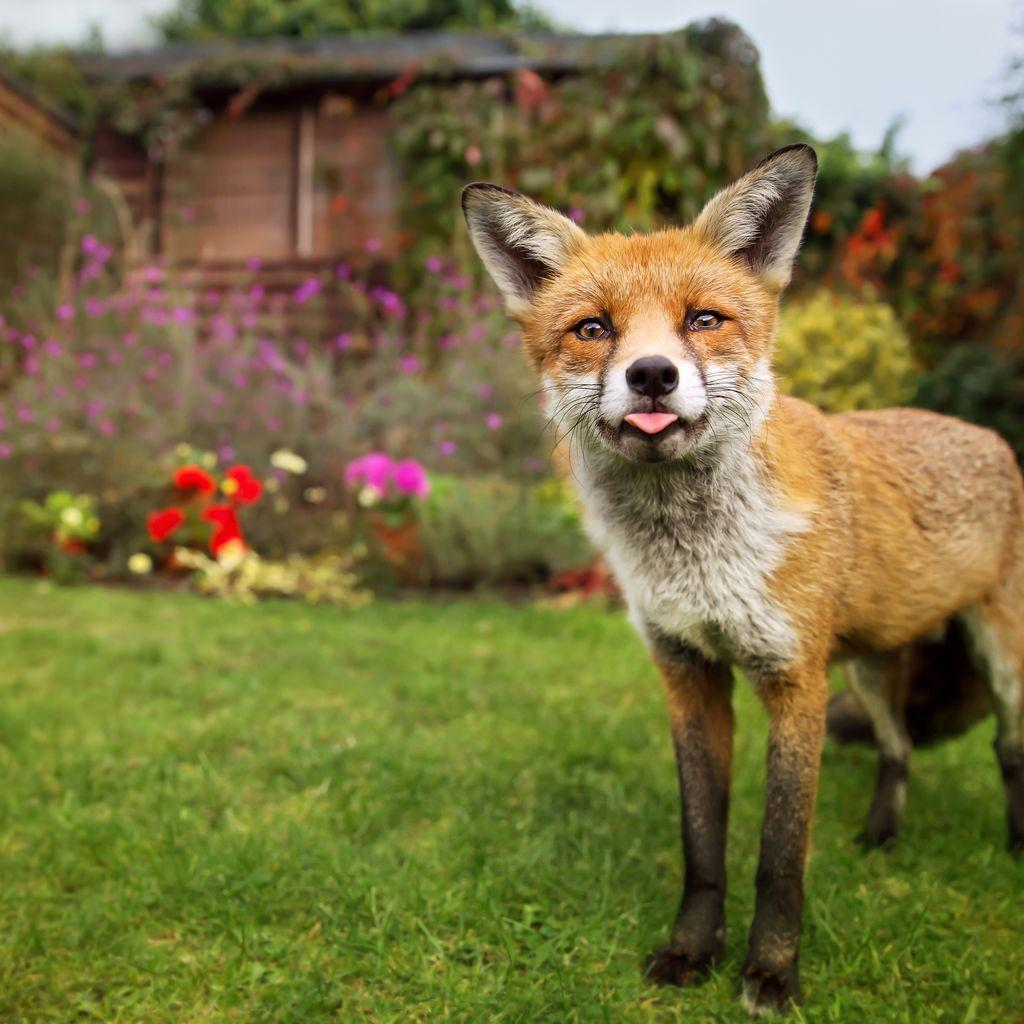fox: (437, 131, 1024, 1008)
